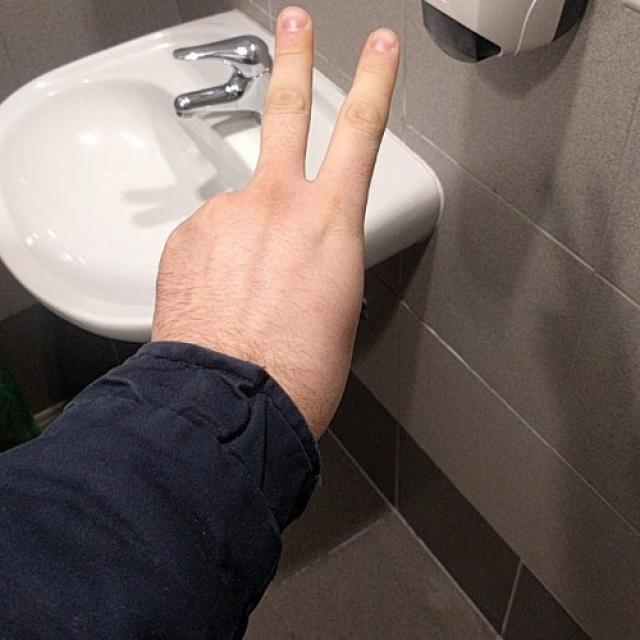scissors: (150, 6, 403, 341)
